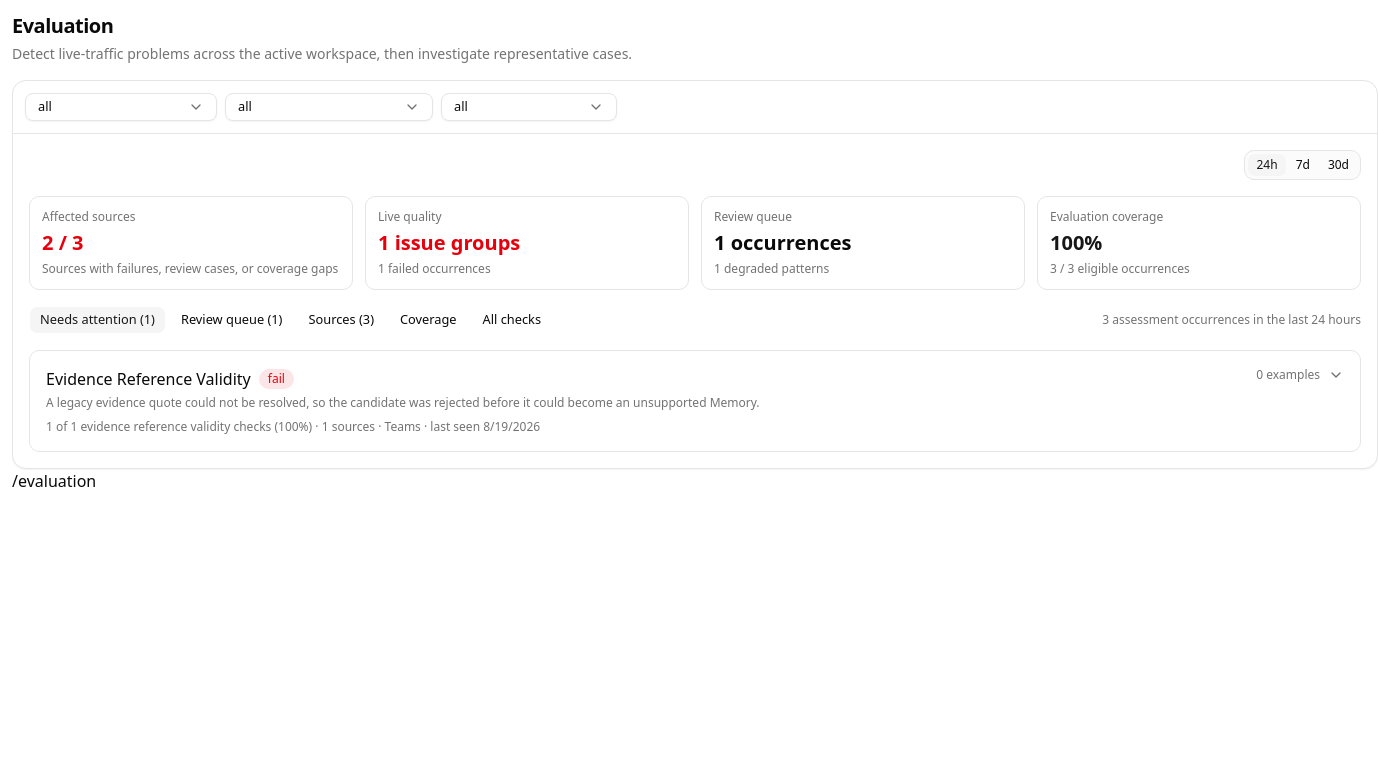
it: OnlineEvaluationPage › loads one workspace overview and drills a Source through the same route
expect the text "2 / 3" is shown: met, box [42,229,84,256]
Click the tab "Sources (3)" at (341, 320), box [298,306,385,334]
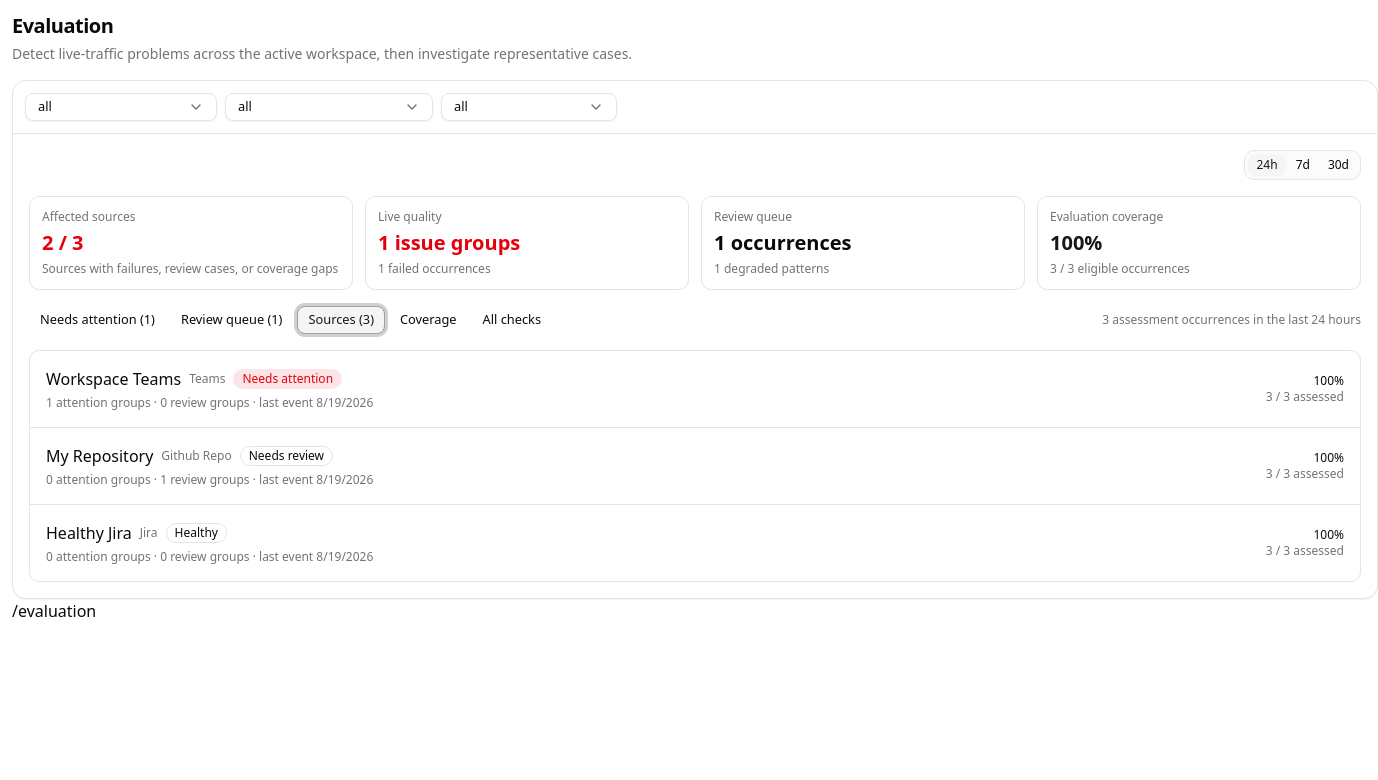
expect the text "Healthy Jira" is shown: met, box [46,521,132,545]
Click the button with aria-label "Open evaluation for Workspace Teams" at (114, 379), box [30,351,1360,428]
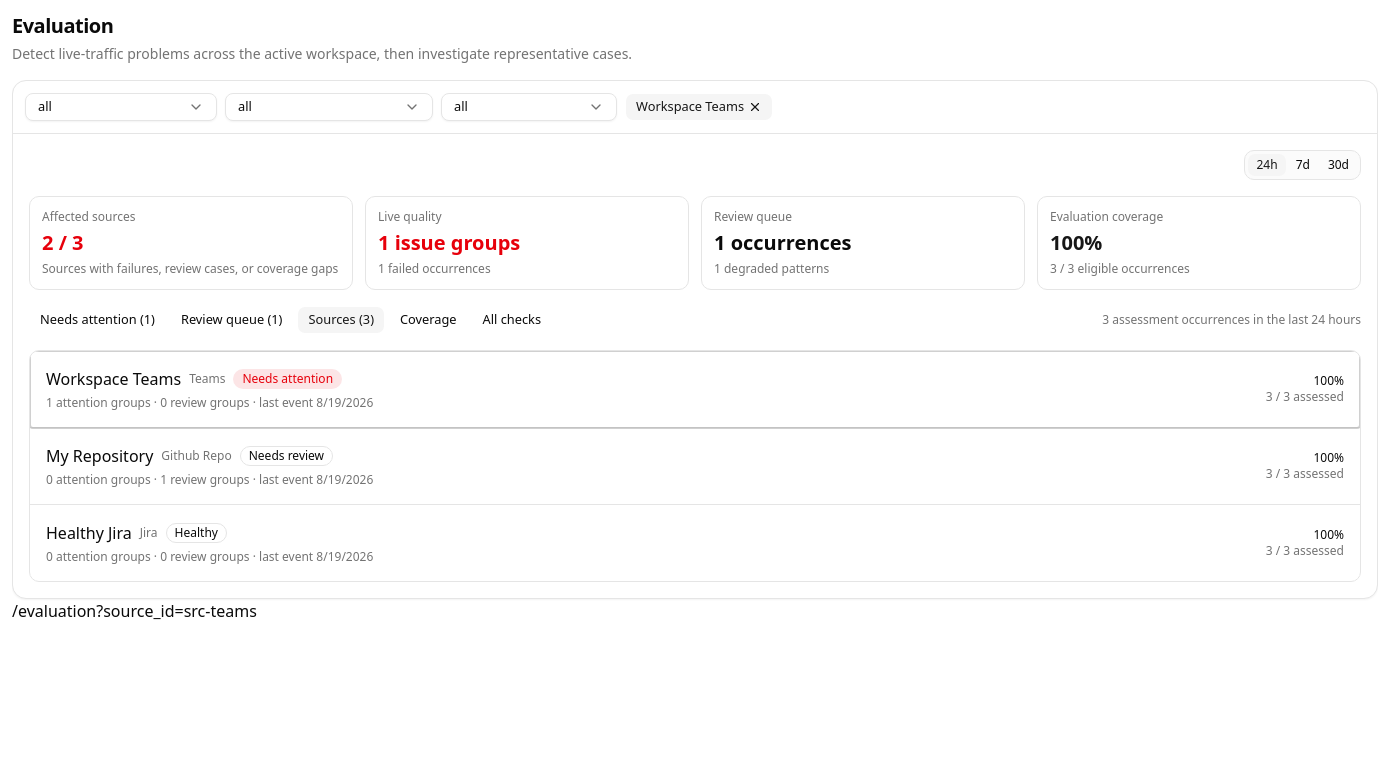
expect the text with test id "location" reads "/evaluation?source_id=src-teams": met, box [12,600,257,622]
